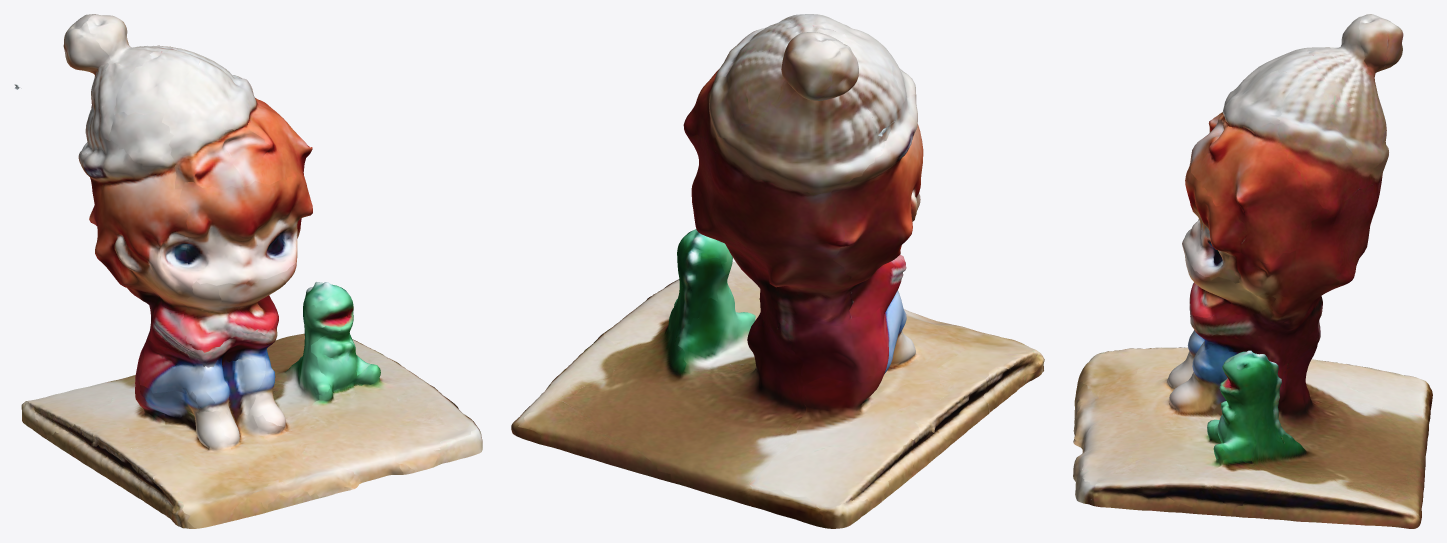
Rendered from asset.glb.
3 views of the same model, side by side, from view 1: azimuth 30°, elevation 25°; view 2: azimuth 150°, elevation 25°; view 3: azimuth 270°, elevation 25° (orthographic). The views are drawn at different scales.
Parts seen in each view (by area): view 1: Mesh_0.001; view 2: Mesh_0.001; view 3: Mesh_0.001.
Part boxes in pixels (x1=…): Mesh_0.001: x1=14, y1=14, x2=482, y2=528; Mesh_0.001: x1=511, y1=14, x2=1044, y2=528; Mesh_0.001: x1=1073, y1=14, x2=1432, y2=528.
Size of the model in its own units: 0.659 by 0.7889 by 0.645.
Materials: 1 (1 with a texture image).
